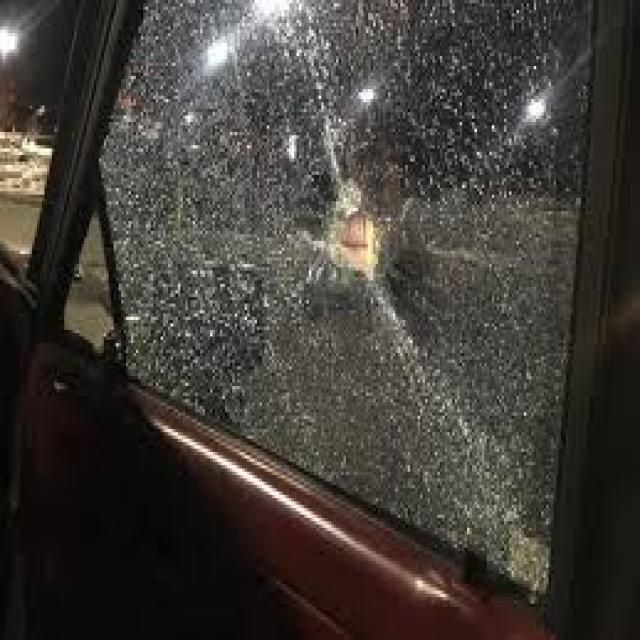damaged-window: (58, 0, 594, 608)
